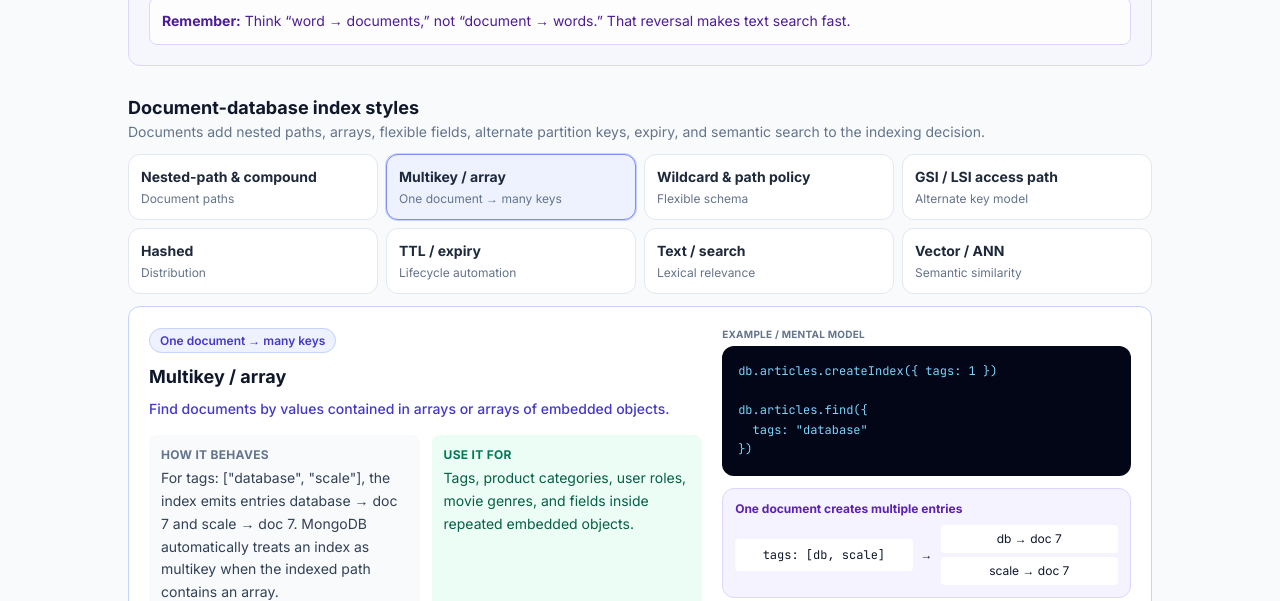
it: database index selection › explains document-database index styles interactively
The width and height of the screenshot is (1280, 601).
(page scrolled)
Expected: the heading "Multikey / array" is shown, [149, 366, 286, 387]
Click the tab "TTL / expiry Lifecycle automation" at [511, 261], box [386, 228, 636, 294]
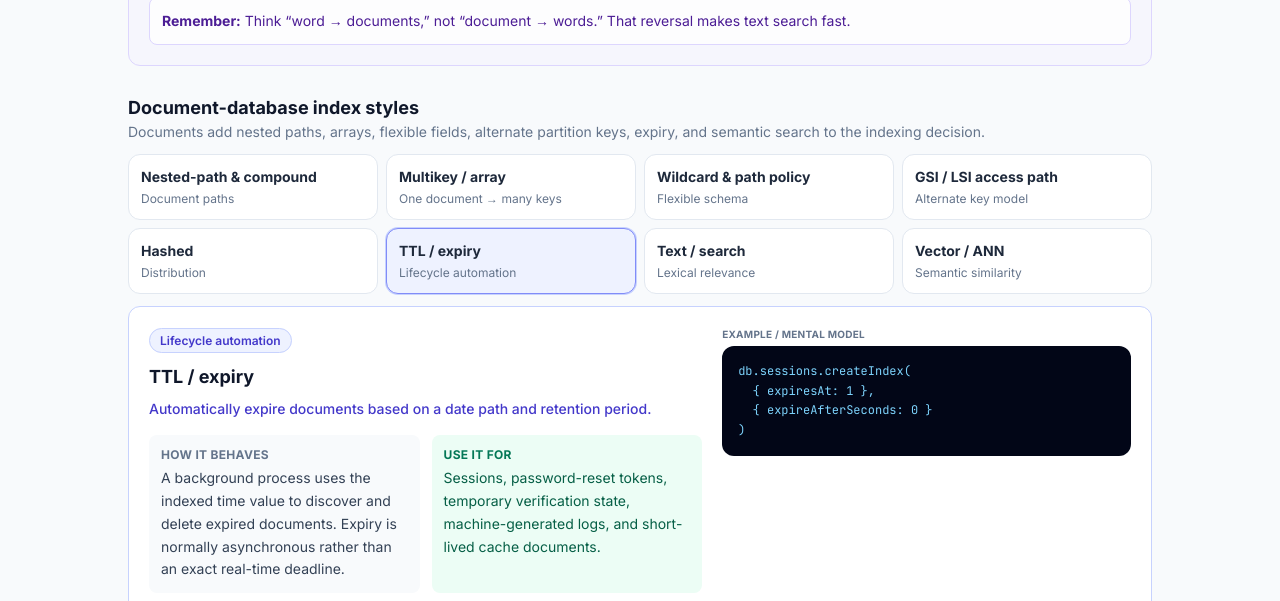
Expected: the text "Automatically expire documents" is shown, [149, 400, 652, 417]
Click the tab "GSI / LSI access path Alternate key model" at [1027, 187], box [902, 154, 1152, 220]
(page scrolled)
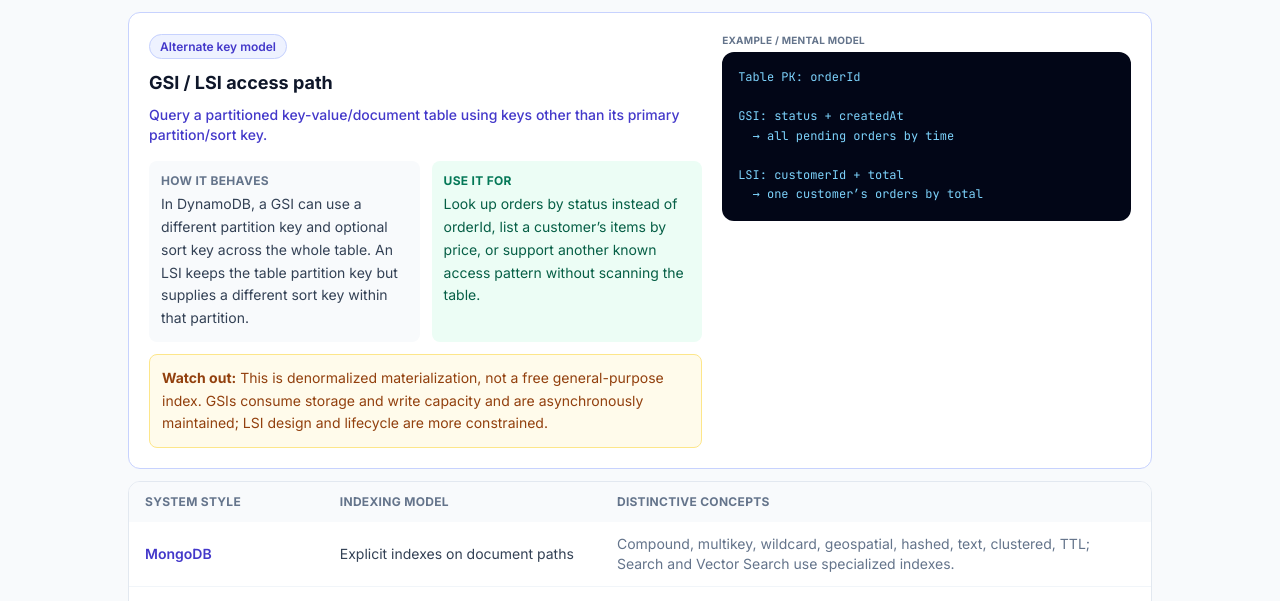
Expected: the text "a GSI can use a different partition key" is shown, [161, 195, 398, 326]
